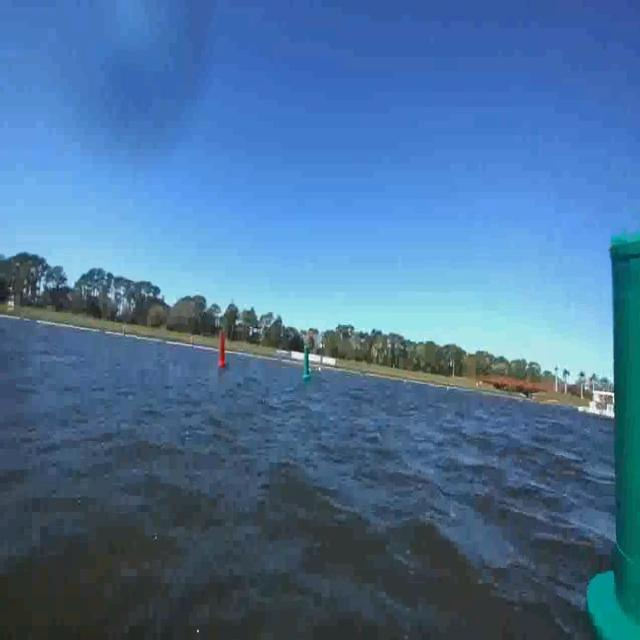green-column-buoy: (579, 241, 640, 640), (299, 332, 313, 382)
red-column-buoy: (215, 320, 232, 376)
